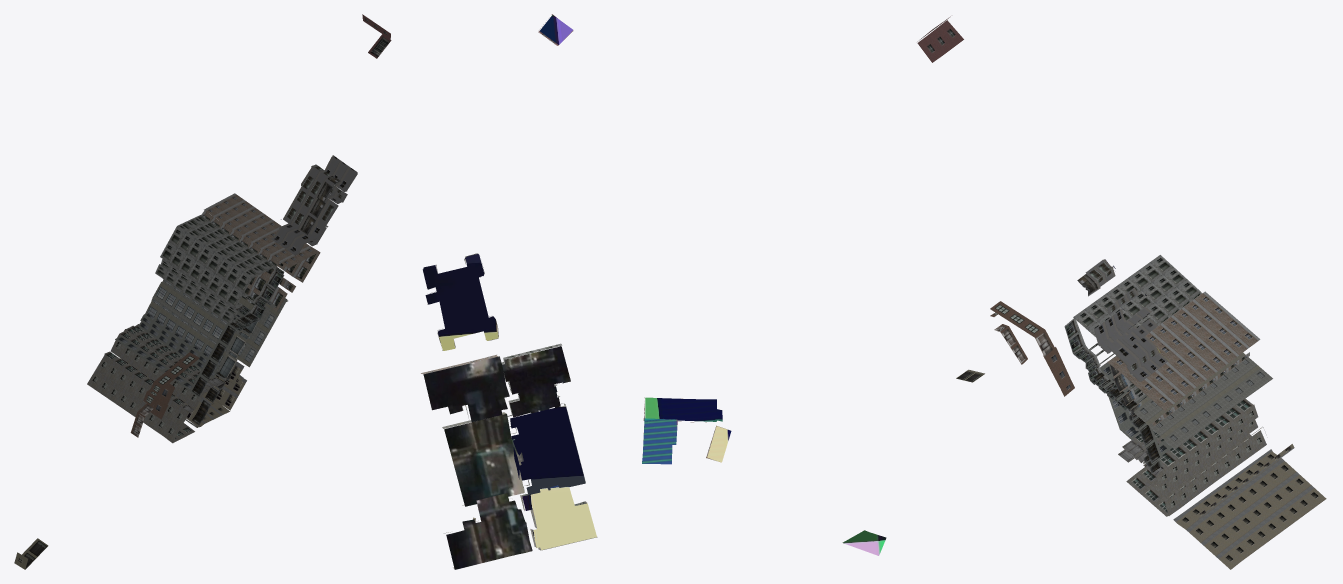
File: tile_LOD4_r7_c3.glb
The picture shows the model from 3 angles, left to right: view 1: azimuth 30°, elevation 25°; view 2: azimuth 150°, elevation 25°; view 3: azimuth 270°, elevation 25°; orthographic projection. The views are drawn at different scales.
Bounding box in the file's own units: 130 × 146 × 97.
47 materials, 47 textured.
